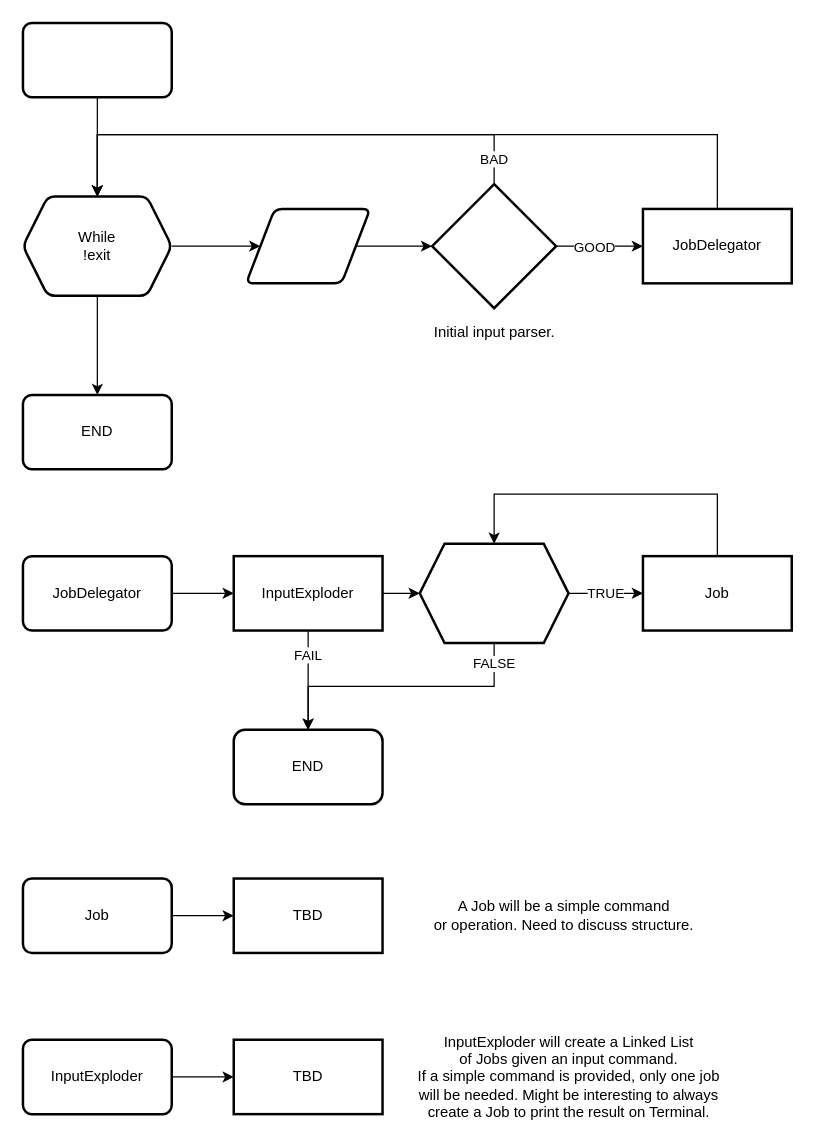
Some shapes in this 813 by 1147 pixel diagram are drawn without their labels. The shapes that lost their labels are listed below. From the top down, each one's centre as x and y in pixels, then its label:
At pixel 96 59: "MiniShell".
At pixel 307 245: "Input".
At pixel 493 245: "ParseInput".
At pixel 493 593: "While JobsInQueue".
